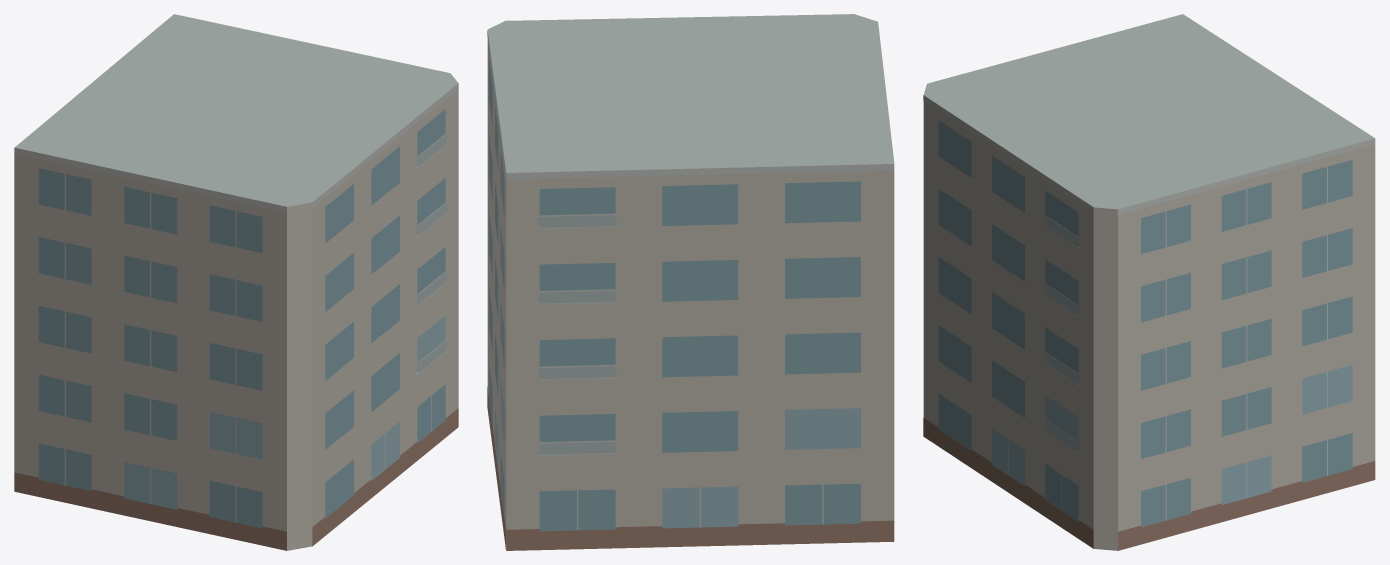
The model's file is survey-upis-32886466.glb.
3 views of the same model, side by side, from view 1: azimuth 30°, elevation 25°; view 2: azimuth 150°, elevation 25°; view 3: azimuth 270°, elevation 25° (orthographic). The views are drawn at different scales.
Parts seen in each view (by area): view 1: survey-upis-32886466.tmp; view 2: survey-upis-32886466.tmp; view 3: survey-upis-32886466.tmp.
Boxes of the visible parts, x1,y1,x2,y2 form: survey-upis-32886466.tmp: [14, 14, 458, 550]; survey-upis-32886466.tmp: [487, 14, 894, 550]; survey-upis-32886466.tmp: [923, 14, 1375, 550].
Bounding box in the file's own units: 17.67 × 14.4 × 17.28.
